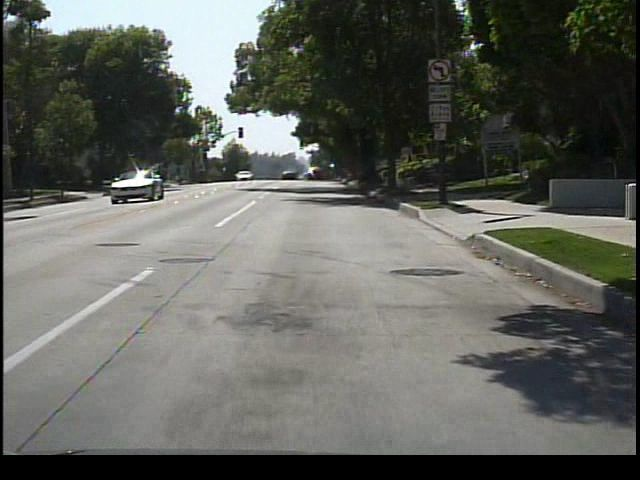person: (411, 152, 434, 187)
